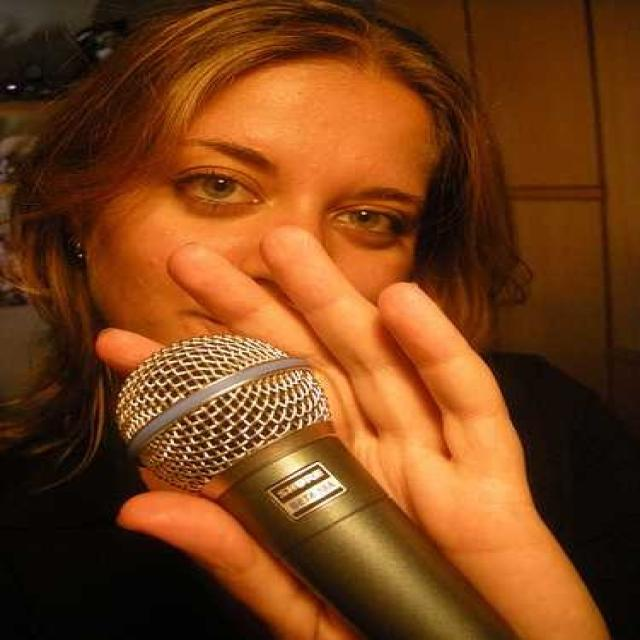microphone: (113, 328, 547, 636)
